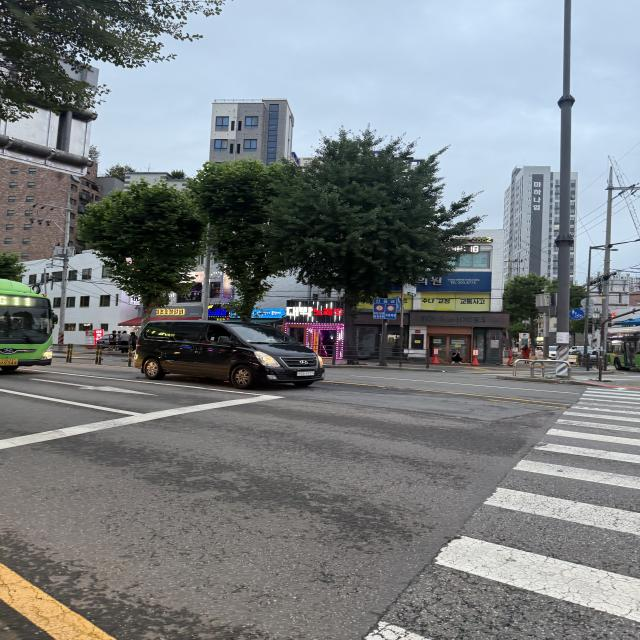car: (126, 313, 338, 397), (0, 272, 66, 380)
